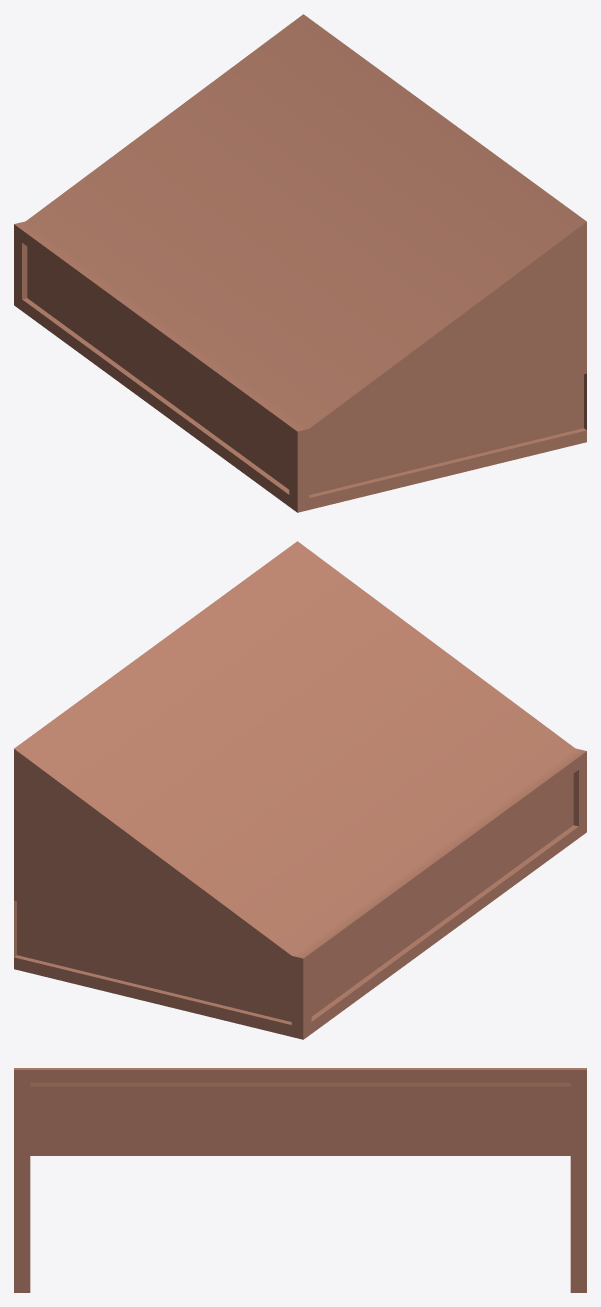
The model's file is O_V_F_Tonnel03.fbx.
3 renders of one model, top to bottom at view 1: azimuth 30°, elevation 25°; view 2: azimuth 150°, elevation 25°; view 3: azimuth 270°, elevation 25°, orthographic.
Parts seen in each view (by area): view 1: Box050; view 2: Box050; view 3: Box050.
Boxes of the visible parts, x1=… form: Box050: x1=14, y1=14, x2=586, y2=512; Box050: x1=14, y1=541, x2=586, y2=1039; Box050: x1=14, y1=1068, x2=586, y2=1292.
Size of the model in its own units: 1.65 by 1.2 by 2.8.
